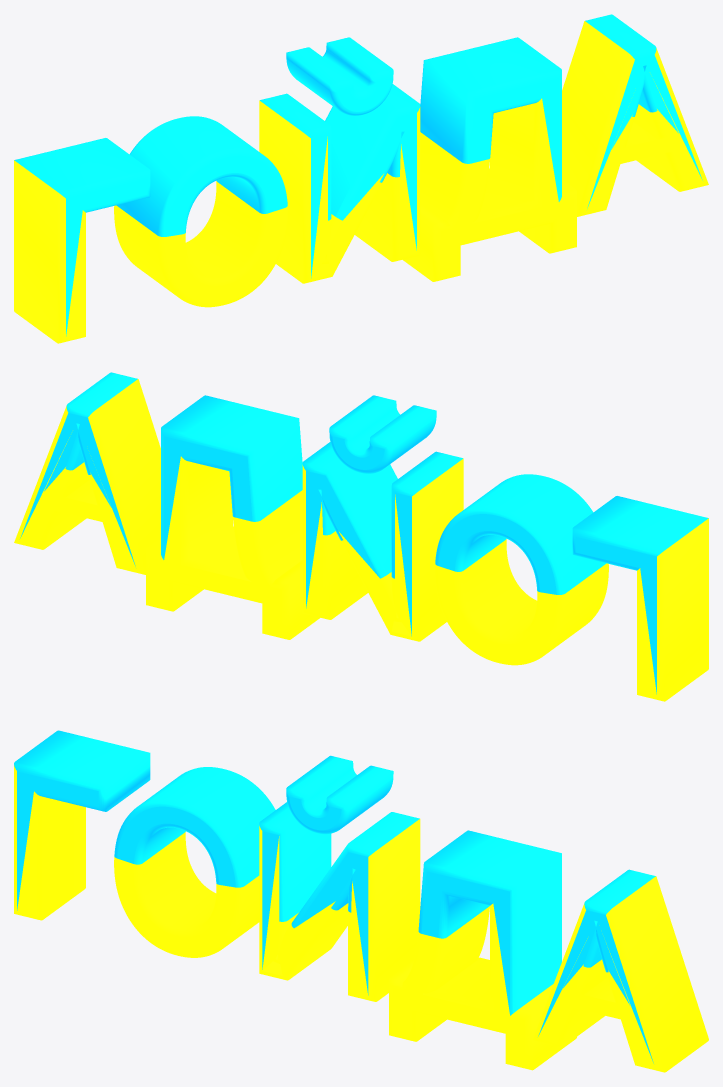
Rendered from Goyda_UA.fbx.
3 views of the same model, one above another, from view 1: azimuth 30°, elevation 25°; view 2: azimuth 150°, elevation 25°; view 3: azimuth 330°, elevation 25° (orthographic).
Visible parts, largest first — view 1: Goyda_UA_Text; view 2: Goyda_UA_Text; view 3: Goyda_UA_Text.
Boxes of the visible parts, <box> form: Goyda_UA_Text: <box>14,14,708,343</box>; Goyda_UA_Text: <box>14,372,708,701</box>; Goyda_UA_Text: <box>14,730,708,1072</box>.
Size of the model in its own units: 177 by 57.9 by 23.
